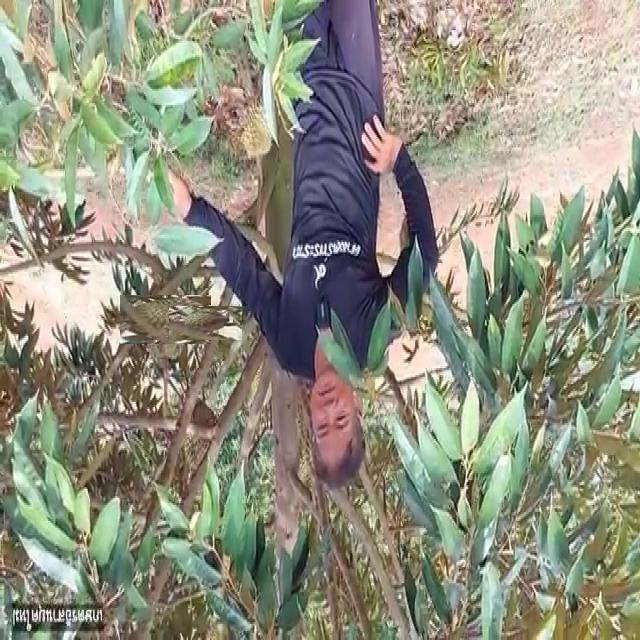durian: (130, 284, 201, 355), (179, 296, 233, 350), (239, 88, 271, 165)
